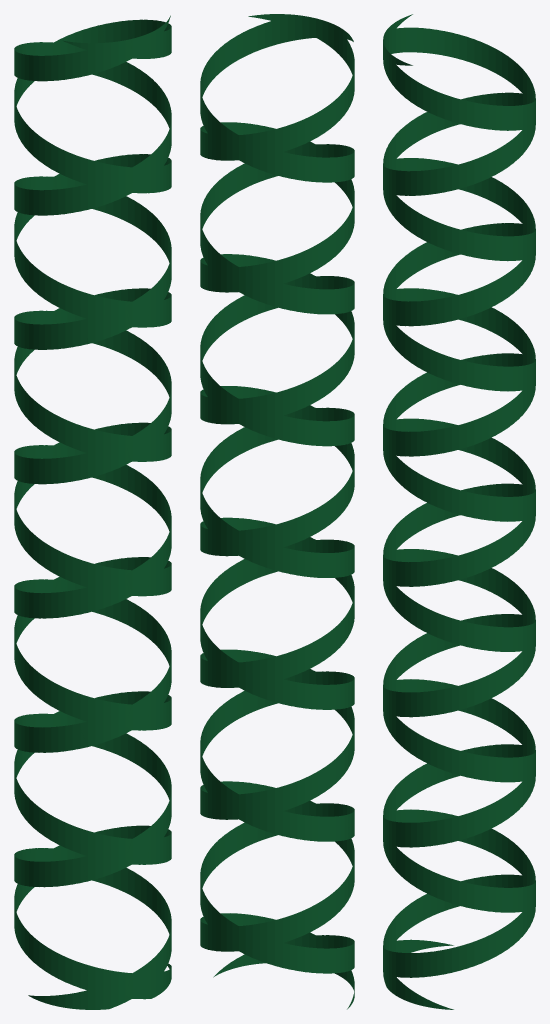
File: sword_handle_detail.obj
The picture shows the model from 3 angles, left to right: view 1: azimuth 30°, elevation 25°; view 2: azimuth 150°, elevation 25°; view 3: azimuth 270°, elevation 25°; orthographic projection. The views are drawn at different scales.
Visible parts, largest first — view 1: Handle_Detail; view 2: Handle_Detail; view 3: Handle_Detail.
Boxes of the visible parts, bbox=[...] form: Handle_Detail: bbox=[14, 15, 171, 1009]; Handle_Detail: bbox=[200, 14, 354, 1009]; Handle_Detail: bbox=[383, 14, 535, 1009].
Size of the model in its own units: 0.0974 by 0.6598 by 0.0974.
